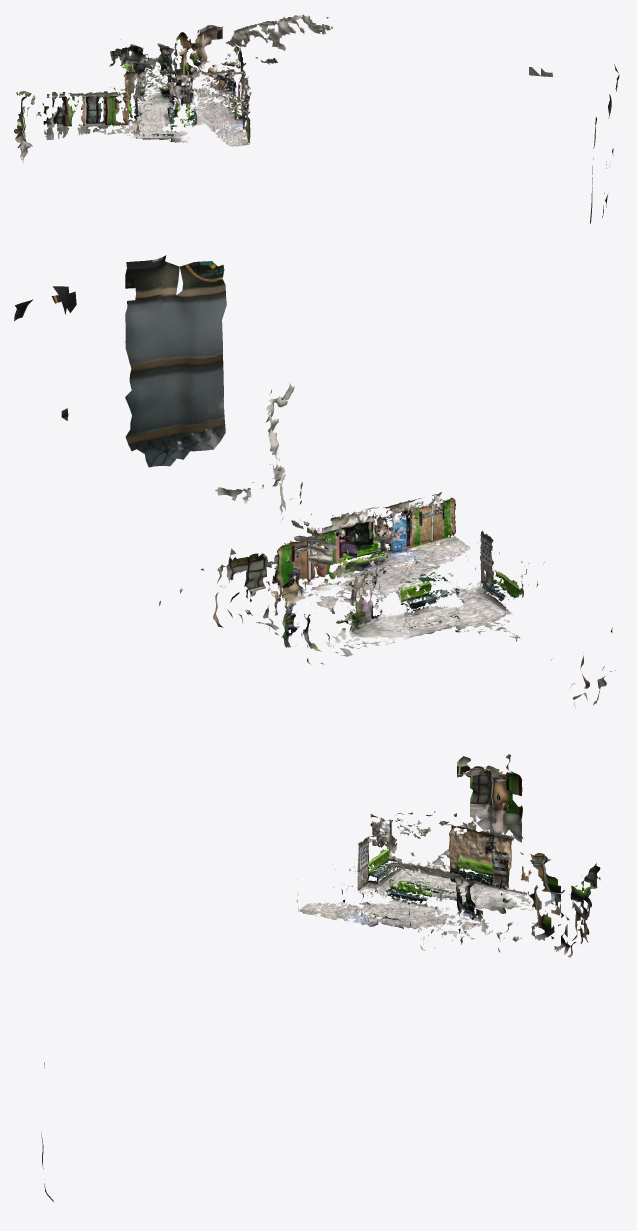
Rendered from 147318-TLT6DepanFarmasi2-tex.glb.
3 views of the same model, one above another, from view 1: azimuth 30°, elevation 25°; view 2: azimuth 150°, elevation 25°; view 3: azimuth 270°, elevation 25° (orthographic). The views are drawn at different scales.
Visible parts, largest first — view 1: Node; view 2: Node; view 3: Node.
Boxes of the visible parts, x1,y1,x2,y2 form: Node: (14, 14, 619, 223); Node: (14, 255, 615, 707); Node: (41, 754, 600, 1201).
Bounding box in the file's own units: 40.72 × 13.56 × 30.92.
Materials: 29 (29 with a texture image).
